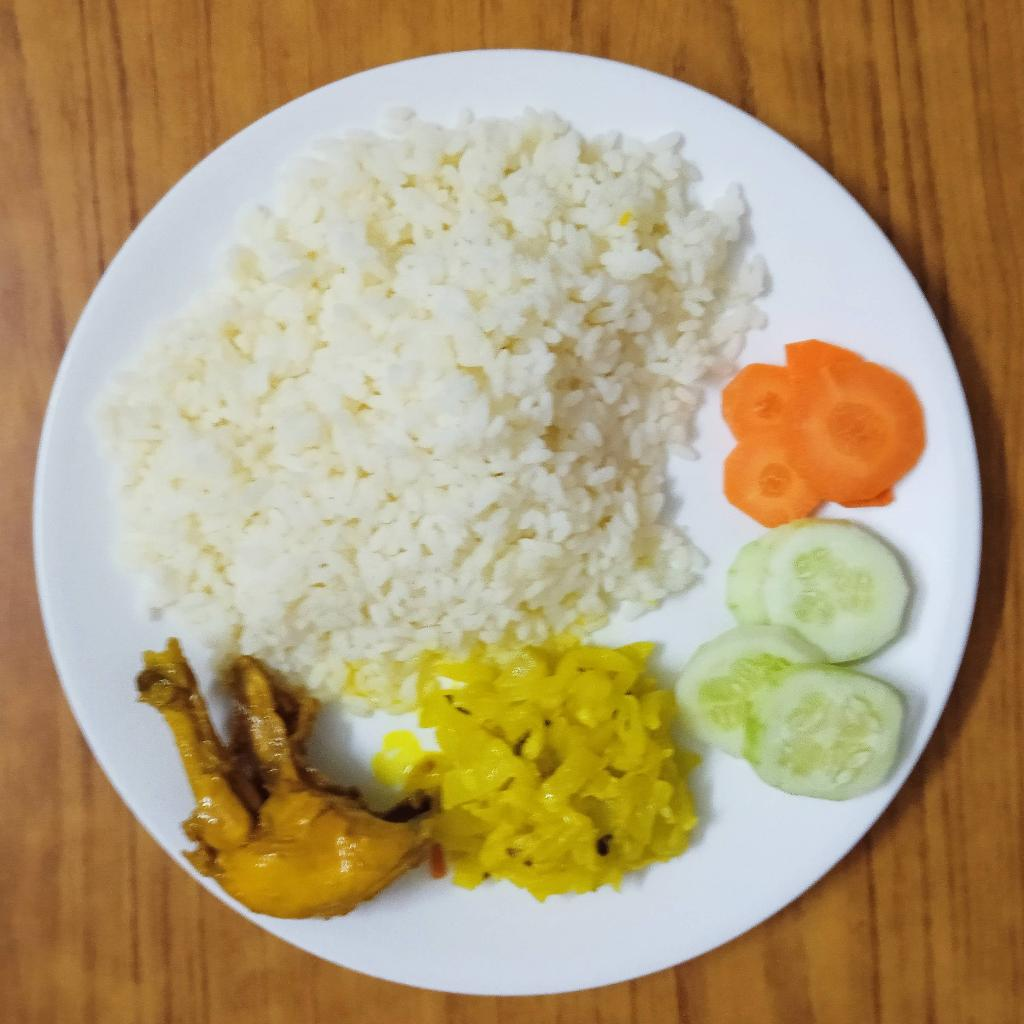carrot: (722, 340, 926, 527)
chicken: (137, 639, 430, 918)
cucumber: (677, 519, 911, 800)
kumra-vaji: (722, 340, 925, 527)
rice: (102, 111, 770, 706)
vaji: (373, 640, 696, 900)
